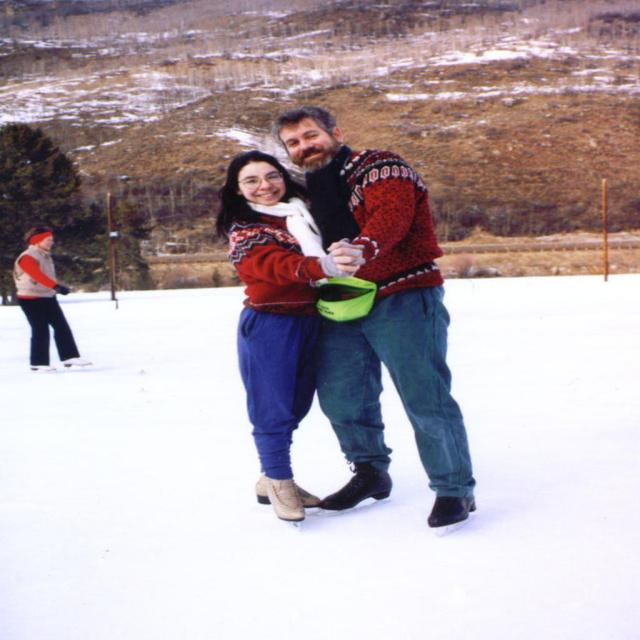nomask: (278, 118, 338, 170), (237, 161, 285, 205), (40, 236, 54, 250)
